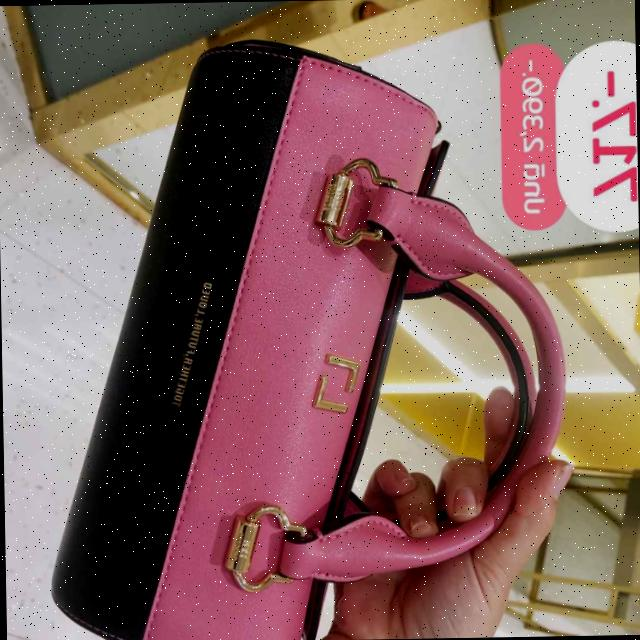handbag: (28, 37, 469, 640)
